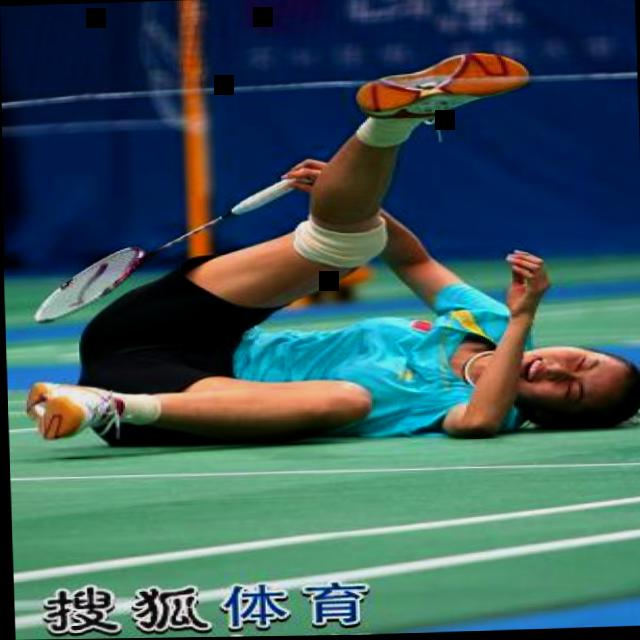Fall-Detected: (5, 46, 640, 456)
